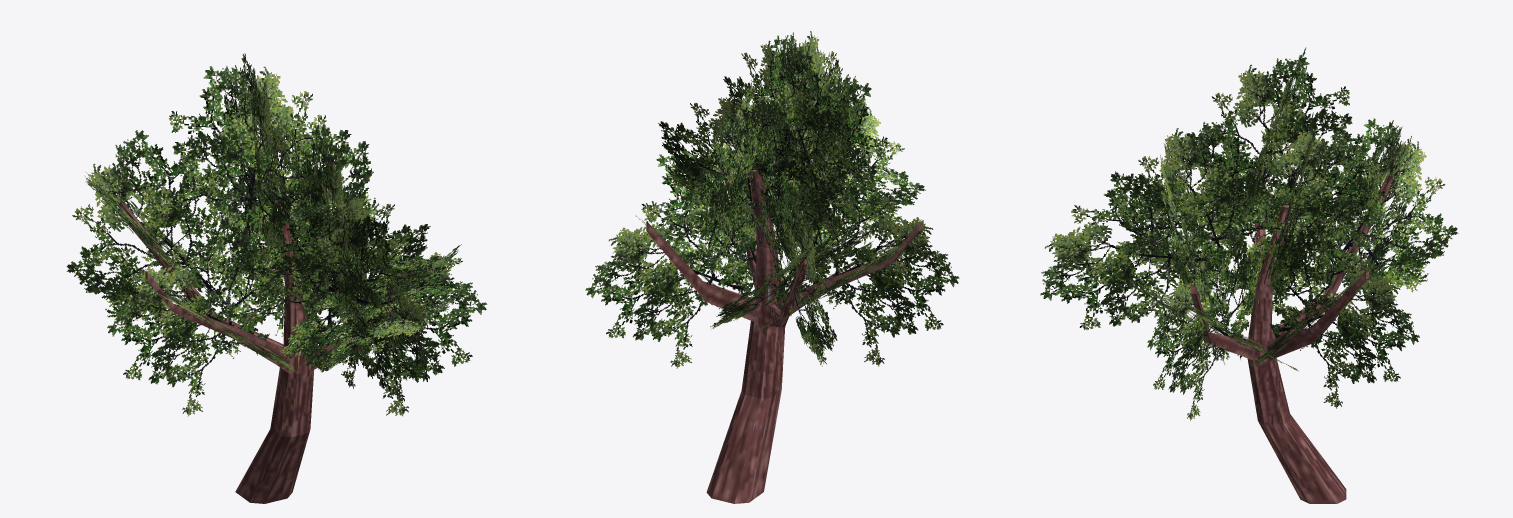
The model's file is pixel_tree2_lowpoly.fbx.
3 views of the same model, side by side, from view 1: azimuth 30°, elevation 25°; view 2: azimuth 150°, elevation 25°; view 3: azimuth 270°, elevation 25° (orthographic). The views are drawn at different scales.
Parts seen in each view (by area): view 1: pixel_tree2_foliage, pixel_tree2_foliage2, pixel_tree2_oak; view 2: pixel_tree2_foliage, pixel_tree2_foliage2, pixel_tree2_oak; view 3: pixel_tree2_foliage, pixel_tree2_foliage2, pixel_tree2_oak.
Boxes of the visible parts, left/top/right/bottom form: pixel_tree2_foliage: left=66, top=53, right=487, bottom=416; pixel_tree2_foliage2: left=67, top=56, right=486, bottom=415; pixel_tree2_oak: left=117, top=197, right=416, bottom=503; pixel_tree2_foliage: left=585, top=31, right=959, bottom=368; pixel_tree2_foliage2: left=586, top=31, right=957, bottom=366; pixel_tree2_oak: left=646, top=157, right=923, bottom=503; pixel_tree2_foliage: left=1040, top=47, right=1458, bottom=420; pixel_tree2_foliage2: left=1040, top=55, right=1456, bottom=417; pixel_tree2_oak: left=1190, top=161, right=1394, bottom=503.
Bounding box in the file's own units: 230 × 269 × 260.
